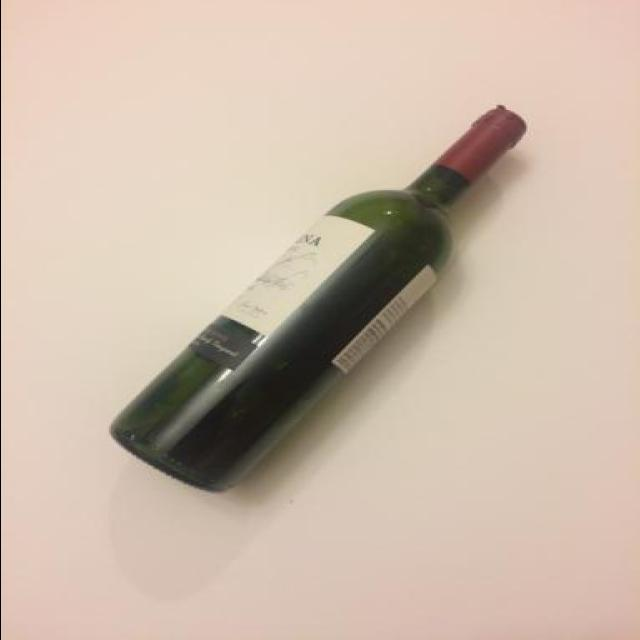Glass Bottle: (105, 105, 530, 496)
